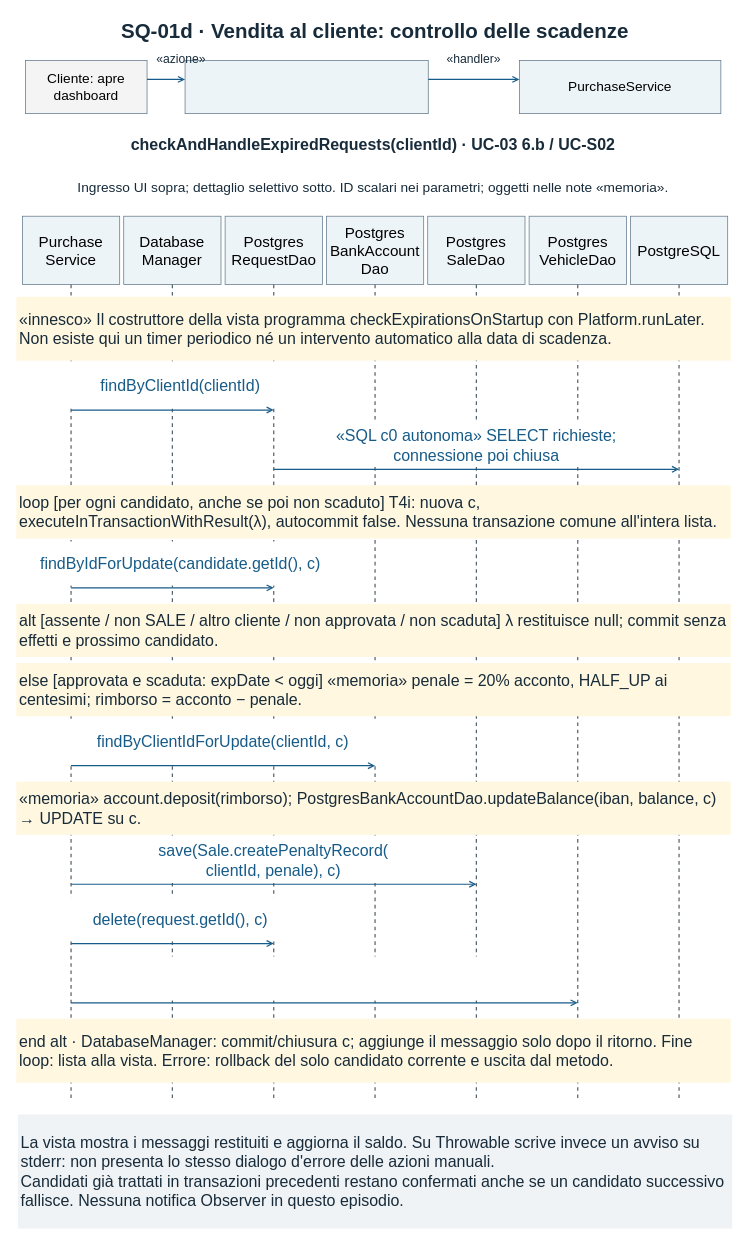
The diagram is 745 pixels wide and 1241 high, and some of its shapes have lost their labels. The centre of each missing label's shape, as x and y in pixels:
ClientDashboardView checkExpirationsOnStartup(): the point at 306,87
updateStateAtomically(vehicleId, BLOCKED, SALE, c): the point at 324,978
